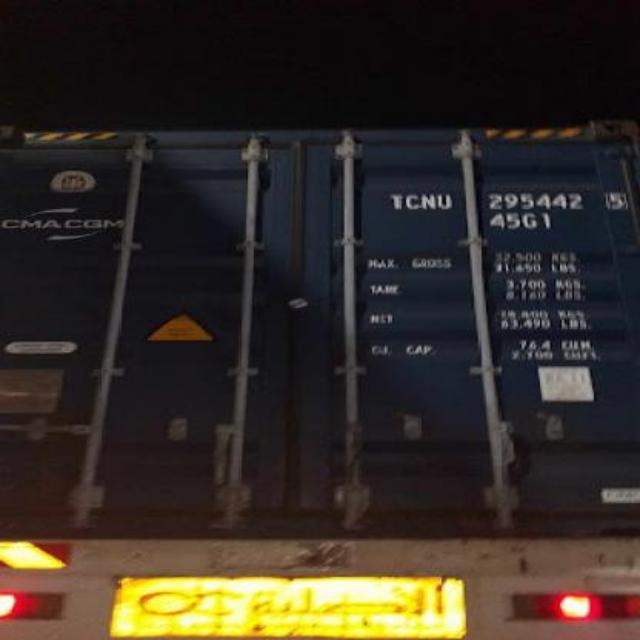2: (570, 190, 588, 210), (484, 192, 506, 208)
4: (534, 190, 554, 212), (552, 190, 570, 212)
5: (606, 192, 630, 208), (518, 192, 538, 208)
9: (506, 192, 518, 210)
C: (404, 193, 420, 211)
N: (420, 193, 438, 211)
T: (388, 194, 404, 210)
U: (440, 193, 456, 211)
